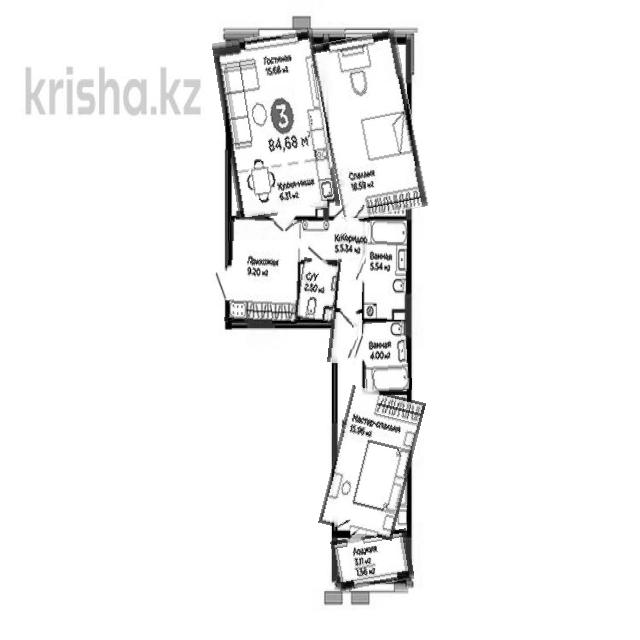balcony: (332, 531, 413, 588)
bathroom: (363, 221, 411, 320), (363, 321, 411, 393), (297, 259, 338, 323)
hallway: (226, 217, 301, 324), (331, 218, 366, 364)
living_room: (319, 32, 421, 220), (326, 389, 418, 537)
studio: (219, 31, 334, 218)
